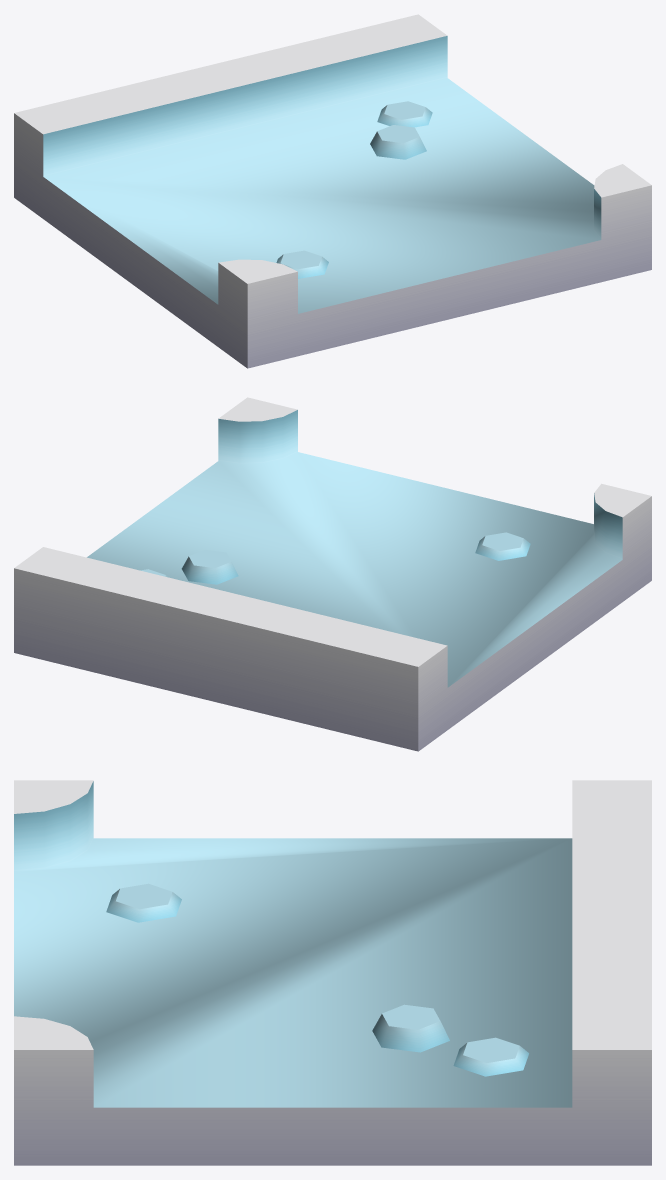
The model's file is snow-tile-split.gltf.
3 renders of one model, top to bottom at view 1: azimuth 30°, elevation 25°; view 2: azimuth 150°, elevation 25°; view 3: azimuth 270°, elevation 25°, orthographic. The views are drawn at different scales.
Parts seen in each view (by area): view 1: snow-tile-split; view 2: snow-tile-split; view 3: snow-tile-split.
Boxes of the visible parts, <box> form: snow-tile-split: <box>14,14,651,368</box>; snow-tile-split: <box>14,397,651,751</box>; snow-tile-split: <box>14,780,651,1165</box>.
Size of the model in its own units: 1 by 0.2 by 1.
1 material, 1 textured.
